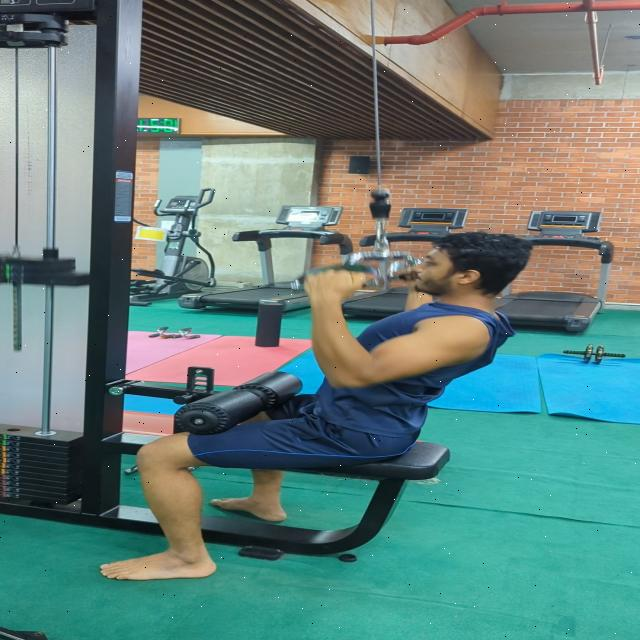Normal_LatPulldown: (80, 220, 560, 590)
